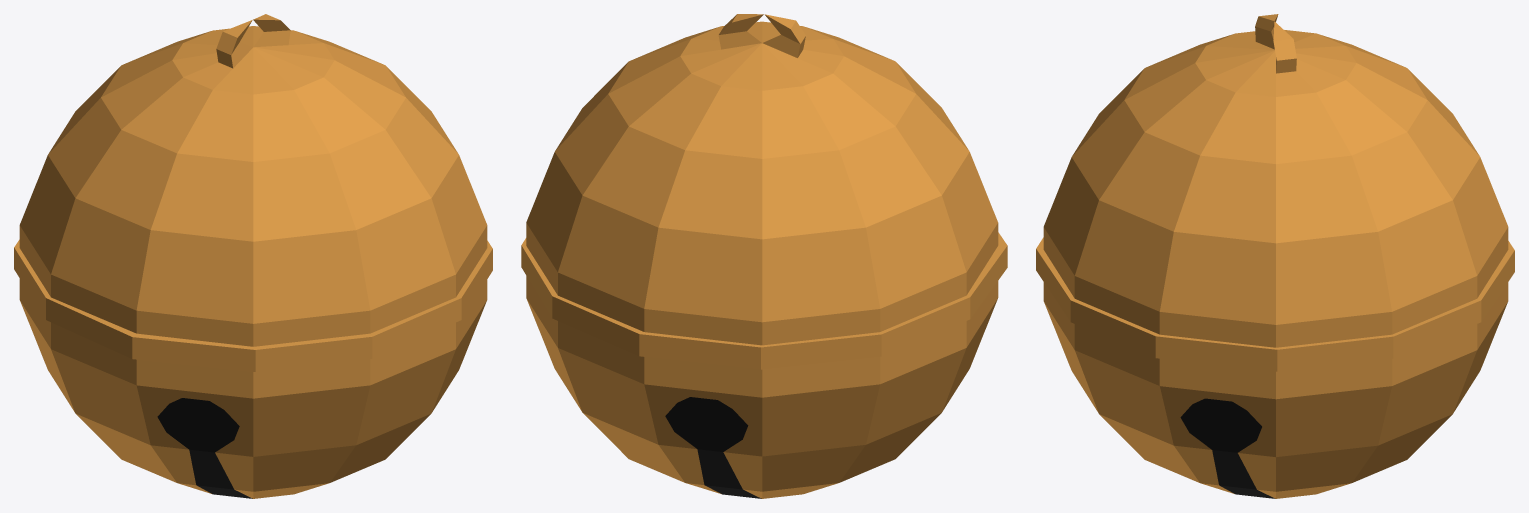
File: bell.glb
3 views of the same model, side by side, from view 1: azimuth 30°, elevation 25°; view 2: azimuth 150°, elevation 25°; view 3: azimuth 270°, elevation 25° (orthographic).
Parts seen in each view (by area): view 1: group1231959303; view 2: group1231959303; view 3: group1231959303.
Part boxes in pixels (bbox=[...]): group1231959303: bbox=[14, 14, 492, 498]; group1231959303: bbox=[521, 14, 1007, 498]; group1231959303: bbox=[1036, 14, 1514, 498].
Bounding box in the file's own units: 1.19 × 1.26 × 1.2.
